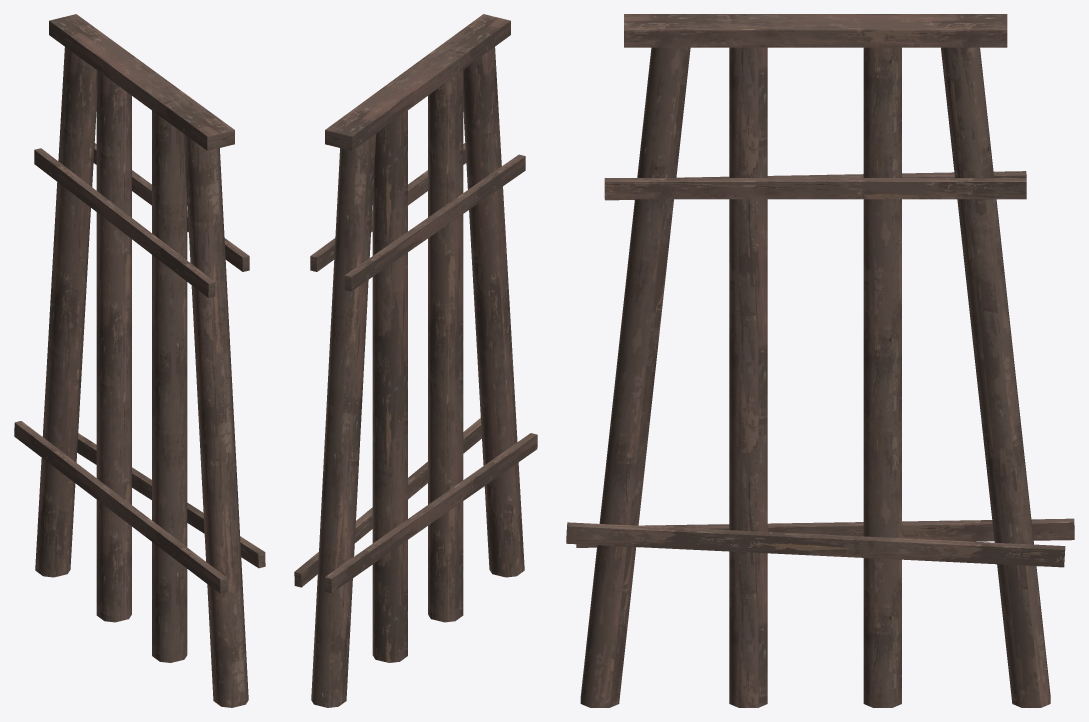
3 views of the same model, side by side, from view 1: azimuth 30°, elevation 25°; view 2: azimuth 150°, elevation 25°; view 3: azimuth 270°, elevation 25° (orthographic). The views are drawn at different scales.
Parts seen in each view (by area): view 1: body0_model0_lod0_mesh0; view 2: body0_model0_lod0_mesh0; view 3: body0_model0_lod0_mesh0.
Boxes of the visible parts, x1,y1,x2,y2 form: body0_model0_lod0_mesh0: (14, 14, 265, 707); body0_model0_lod0_mesh0: (294, 14, 537, 707); body0_model0_lod0_mesh0: (566, 14, 1074, 707).
Size of the model in its own units: 23.99 by 312 by 212.
1 material, 1 textured.
